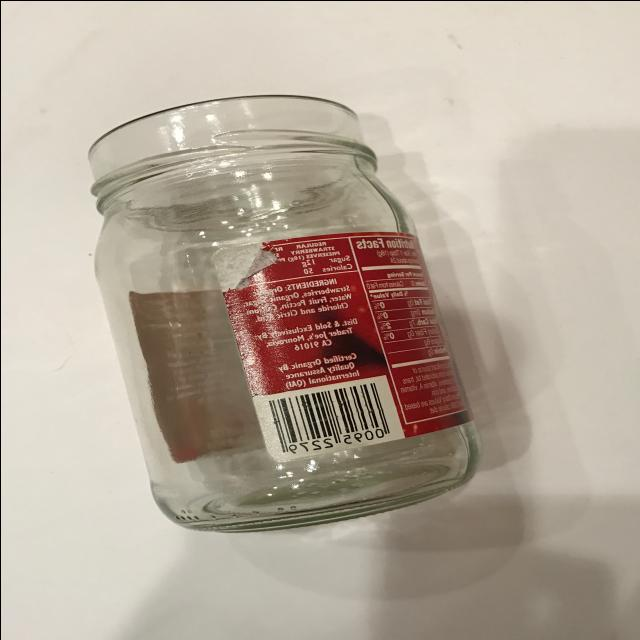glass: (76, 94, 484, 538)
